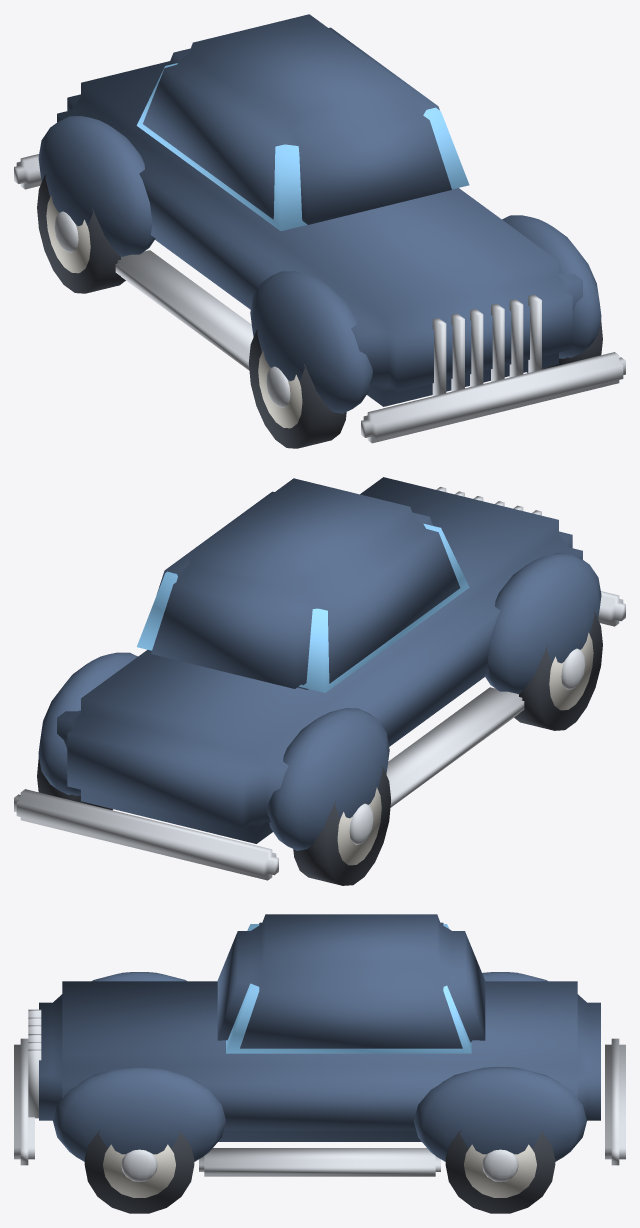
The model's file is noir_sedan.glb.
3 renders of one model, top to bottom at view 1: azimuth 30°, elevation 25°; view 2: azimuth 150°, elevation 25°; view 3: azimuth 270°, elevation 25°, orthographic. The views are drawn at different scales.
Parts seen in each view (by area): view 1: BodyTub, CabinRoof, Fender_-0.86_-1.38, Fender_-0.86_1.38, Bumper_-2.26, RunBoard_-0.86, Windows, Fender_0.86_-1.38, Tire_-0.96_-1.38, Tire_-0.96_1.38, Whitewall_-0.96_-1.38, Whitewall_-0.96_1.38 (+9 smaller); view 2: BodyTub, CabinRoof, Fender_-0.86_1.38, Fender_-0.86_-1.38, Bumper_2.26, RunBoard_-0.86, Windows, Fender_0.86_1.38, Tire_-0.96_1.38, Tire_-0.96_-1.38, Whitewall_-0.96_-1.38, Whitewall_-0.96_1.38 (+4 smaller); view 3: BodyTub, CabinRoof, Fender_0.86_-1.38, Fender_0.86_1.38, RunBoard_0.86, Tire_0.96_-1.38, Tire_0.96_1.38, Windows, Bumper_2.26, Bumper_-2.26, Whitewall_0.96_-1.38, Whitewall_0.96_1.38 (+5 smaller).
Part boxes in pixels (box(x1,y1,x2,y2)): BodyTub: box(57, 61, 582, 406); CabinRoof: box(143, 14, 451, 224); Fender_-0.86_-1.38: box(250, 271, 372, 413); Fender_-0.86_1.38: box(38, 116, 155, 256); Bumper_-2.26: box(361, 352, 625, 443); RunBoard_-0.86: box(115, 250, 253, 370); Windows: box(136, 63, 469, 230); Fender_0.86_-1.38: box(502, 215, 601, 358); Tire_-0.96_-1.38: box(248, 329, 346, 448); Tire_-0.96_1.38: box(37, 174, 125, 293); Whitewall_-0.96_-1.38: box(258, 350, 302, 428); Whitewall_-0.96_1.38: box(46, 195, 90, 273); BodyTub: box(57, 477, 582, 843); CabinRoof: box(151, 478, 460, 689); Fender_-0.86_1.38: box(267, 708, 389, 850); Fender_-0.86_-1.38: box(484, 553, 601, 694); Bumper_2.26: box(14, 789, 278, 880); RunBoard_-0.86: box(386, 687, 524, 807); Windows: box(137, 523, 469, 692); Fender_0.86_1.38: box(38, 652, 137, 795); Tire_-0.96_1.38: box(293, 766, 390, 885); Tire_-0.96_-1.38: box(514, 611, 602, 730); Whitewall_-0.96_-1.38: box(549, 632, 593, 710); Whitewall_-0.96_1.38: box(337, 787, 381, 865); BodyTub: box(39, 981, 600, 1141); CabinRoof: box(217, 914, 485, 1048); Fender_0.86_-1.38: box(53, 1067, 225, 1161); Fender_0.86_1.38: box(414, 1067, 586, 1161); RunBoard_0.86: box(199, 1148, 440, 1176); Tire_0.96_-1.38: box(84, 1130, 194, 1213); Tire_0.96_1.38: box(445, 1130, 555, 1213); Windows: box(226, 924, 471, 1053); Bumper_2.26: box(605, 1038, 625, 1165); Bumper_-2.26: box(14, 1038, 34, 1165); Whitewall_0.96_-1.38: box(103, 1144, 175, 1197); Whitewall_0.96_1.38: box(464, 1144, 536, 1197).
Bounding box in the file's own units: 2.33 × 1.81 × 4.68.
